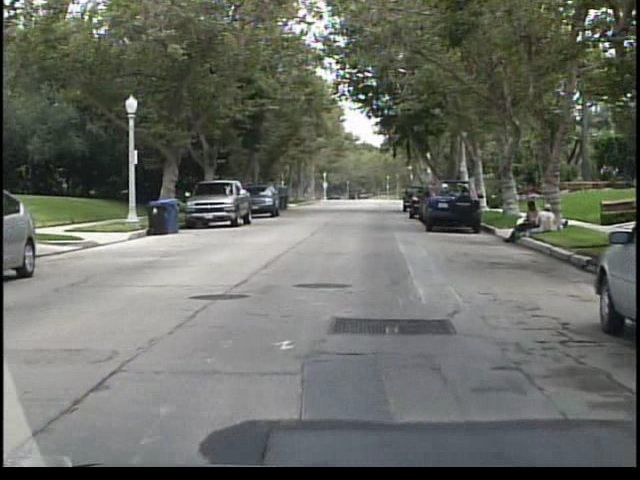person: (506, 198, 542, 243), (533, 204, 557, 232)
